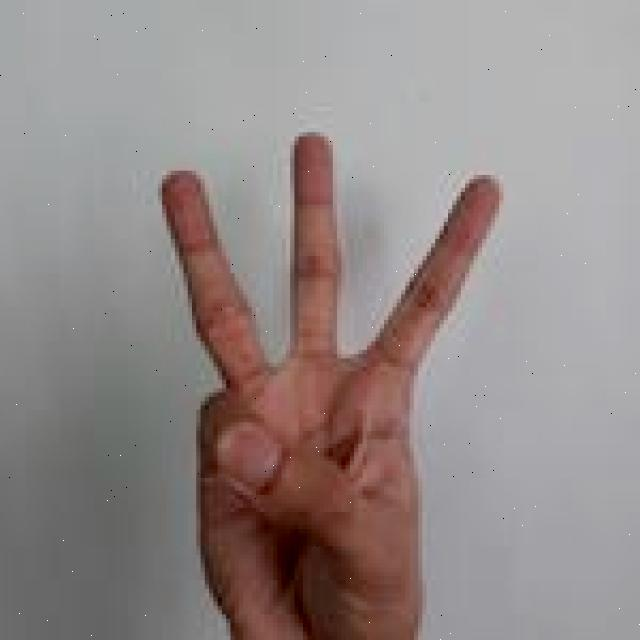W: (156, 124, 508, 640)
